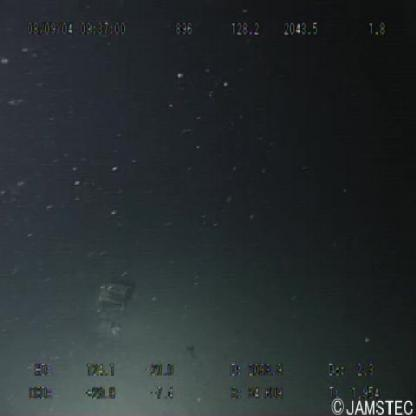Rác: (98, 284, 128, 308)
